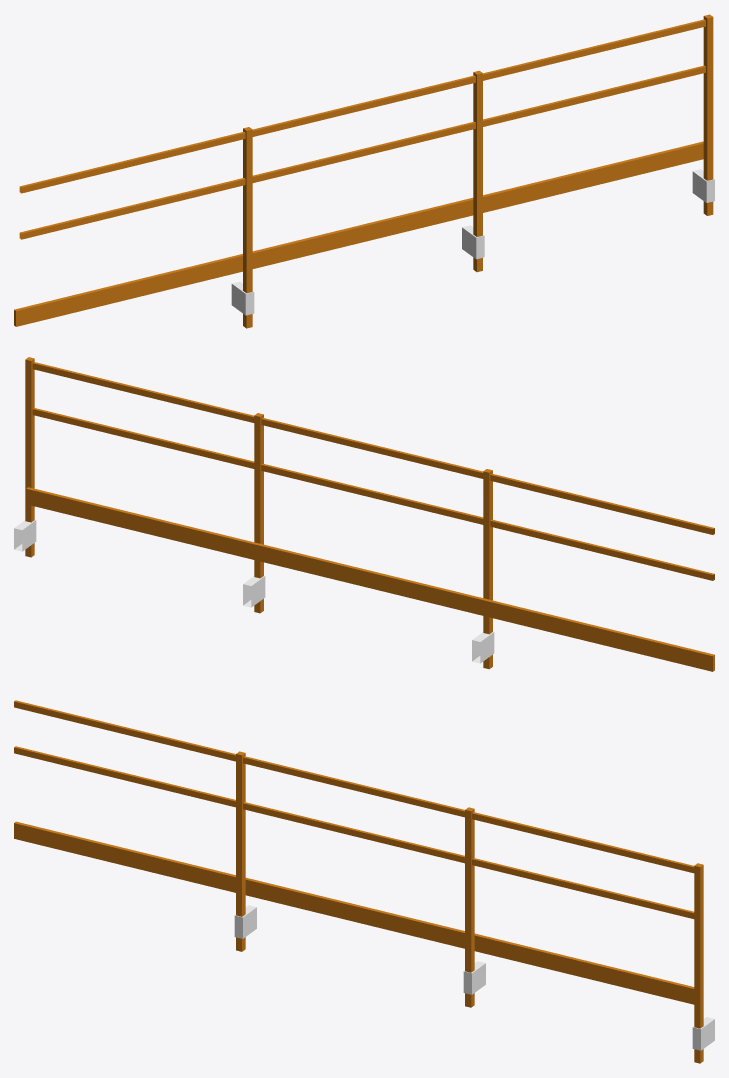
File: SM_H_Building_Tide_DeepJail_04_Meatl_01e_ATLAS.fbx
3 views of the same model, one above another, from view 1: azimuth 30°, elevation 25°; view 2: azimuth 150°, elevation 25°; view 3: azimuth 330°, elevation 25° (orthographic).
Visible parts, largest first — view 1: SM_H_Building_Tide_DeepJail_04_Meatl_01e_ATLAS; view 2: SM_H_Building_Tide_DeepJail_04_Meatl_01e_ATLAS; view 3: SM_H_Building_Tide_DeepJail_04_Meatl_01e_ATLAS.
Part boxes in pixels (<box>): SM_H_Building_Tide_DeepJail_04_Meatl_01e_ATLAS: <box>14,14,714,328</box>; SM_H_Building_Tide_DeepJail_04_Meatl_01e_ATLAS: <box>14,357,714,671</box>; SM_H_Building_Tide_DeepJail_04_Meatl_01e_ATLAS: <box>14,700,714,1063</box>.
Bounding box in the file's own units: 488 × 17.16 × 133.
